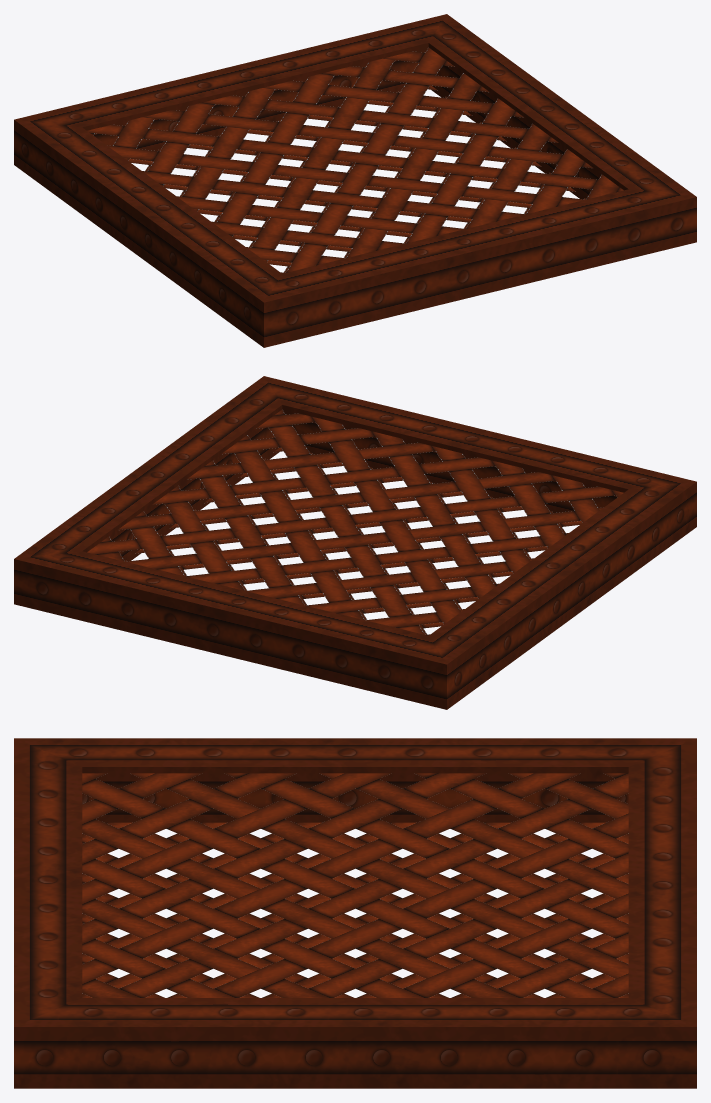
File: SM_metal_platform.fbx
3 views of the same model, one above another, from view 1: azimuth 30°, elevation 25°; view 2: azimuth 150°, elevation 25°; view 3: azimuth 270°, elevation 25° (orthographic). The views are drawn at different scales.
Parts seen in each view (by area): view 1: Cube__6_.001; view 2: Cube__6_.001; view 3: Cube__6_.001.
Boxes of the visible parts, x1,y1,x2,y2 form: Cube__6_.001: [14, 14, 696, 347]; Cube__6_.001: [14, 376, 696, 709]; Cube__6_.001: [14, 738, 696, 1088].
Size of the model in its own units: 1000 by 1000 by 100.
